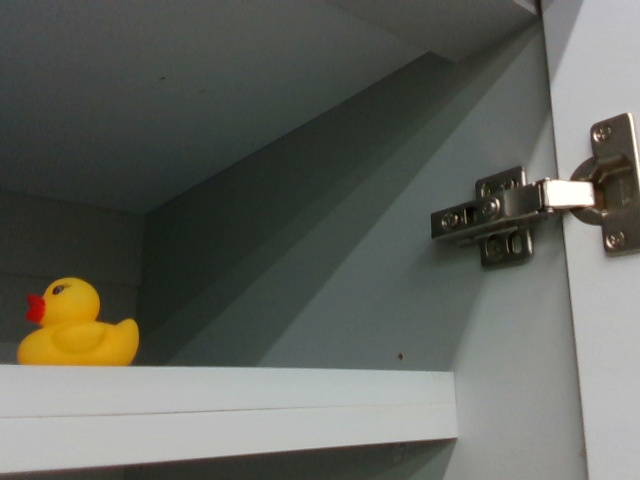duck: (16, 274, 141, 364)
